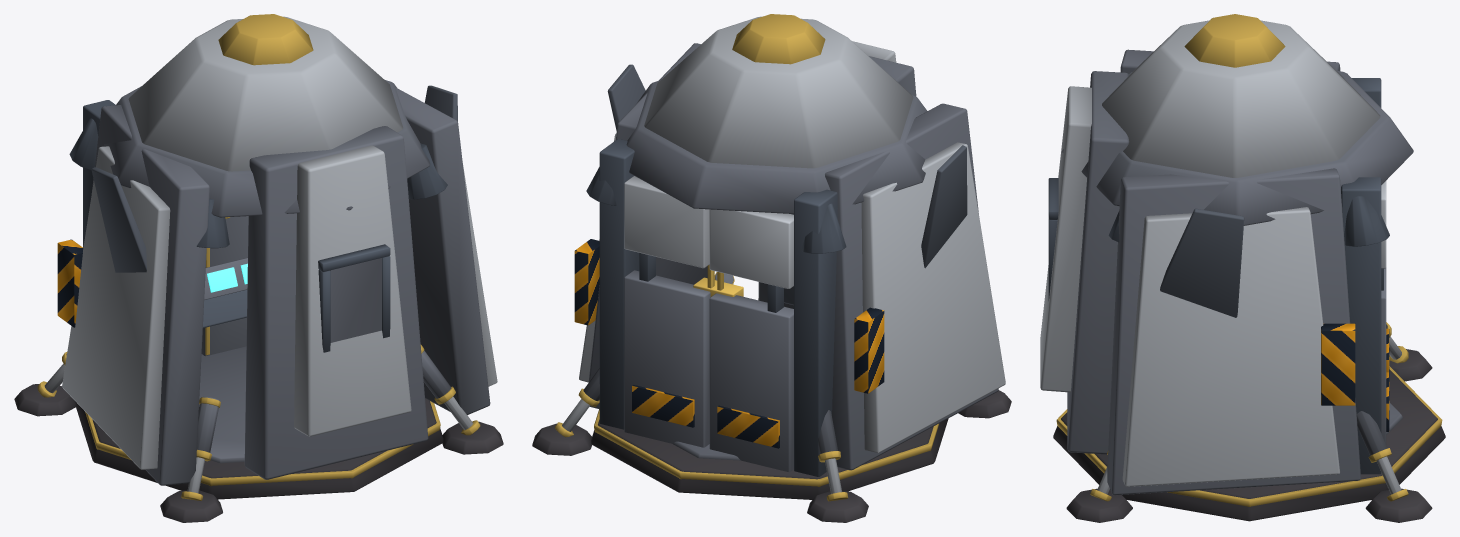
Rendered from orbital_drop_pod.glb.
3 views of the same model, side by side, from view 1: azimuth 30°, elevation 25°; view 2: azimuth 150°, elevation 25°; view 3: azimuth 270°, elevation 25° (orthographic). The views are drawn at different scales.
Parts seen in each view (by area): view 1: PodHull_ArmorAlloy, RightDoor_ArmorAlloy, PodHull_A2_Hazard, PodHull_Pod_ConsoleGlow; view 2: PodHull_ArmorAlloy, RightDoor_ArmorAlloy, LeftDoor_Pod_Titanium, LeftDoor_Pod_Ceramic, PodHull_A2_Hazard, LeftDoor_A2_Hazard, RightDoor_A2_Hazard; view 3: PodHull_ArmorAlloy, PodHull_A2_Hazard, RightDoor_ArmorAlloy.
Part boxes in pixels (left/top/right/bottom): PodHull_ArmorAlloy: left=14, top=14, right=503, bottom=522; RightDoor_ArmorAlloy: left=201, top=216, right=248, bottom=356; PodHull_A2_Hazard: left=57, top=239, right=83, bottom=327; PodHull_Pod_ConsoleGlow: left=207, top=263, right=247, bottom=292; PodHull_ArmorAlloy: left=532, top=14, right=1011, bottom=522; RightDoor_ArmorAlloy: left=624, top=176, right=714, bottom=447; LeftDoor_Pod_Titanium: left=709, top=293, right=793, bottom=472; LeftDoor_Pod_Ceramic: left=709, top=209, right=793, bottom=288; PodHull_A2_Hazard: left=574, top=239, right=884, bottom=393; LeftDoor_A2_Hazard: left=717, top=405, right=779, bottom=448; RightDoor_A2_Hazard: left=632, top=385, right=694, bottom=427; PodHull_ArmorAlloy: left=1040, top=14, right=1445, bottom=522; PodHull_A2_Hazard: left=1321, top=323, right=1355, bottom=405; RightDoor_ArmorAlloy: left=1381, top=181, right=1386, bottom=444.
Bounding box in the file's own units: 2.96 × 3.17 × 2.83.
Materials: 9 (1 with a texture image).
